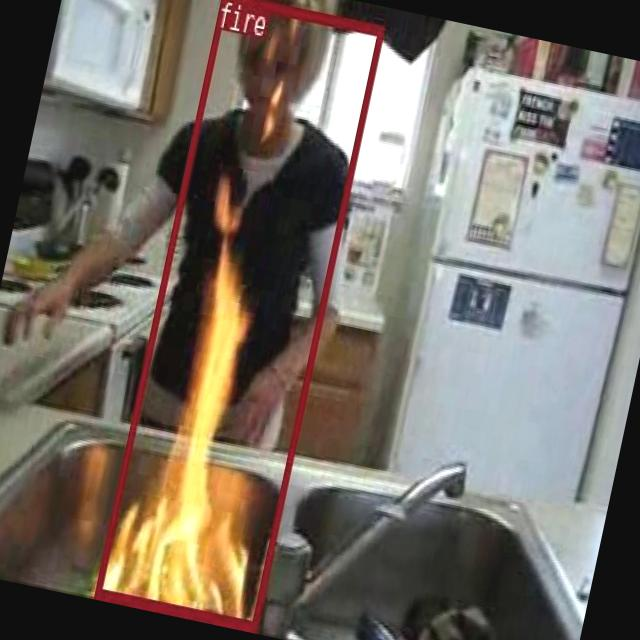fire: (93, 0, 383, 629)
